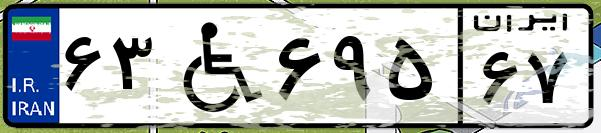3: (110, 28, 158, 98)
5: (385, 28, 445, 110)
6: (270, 28, 330, 110), (57, 26, 110, 100), (475, 38, 525, 113)
7: (525, 38, 570, 115)
9: (330, 28, 385, 110)
ژ (معلولین و جانبازان): (158, 12, 270, 120)
